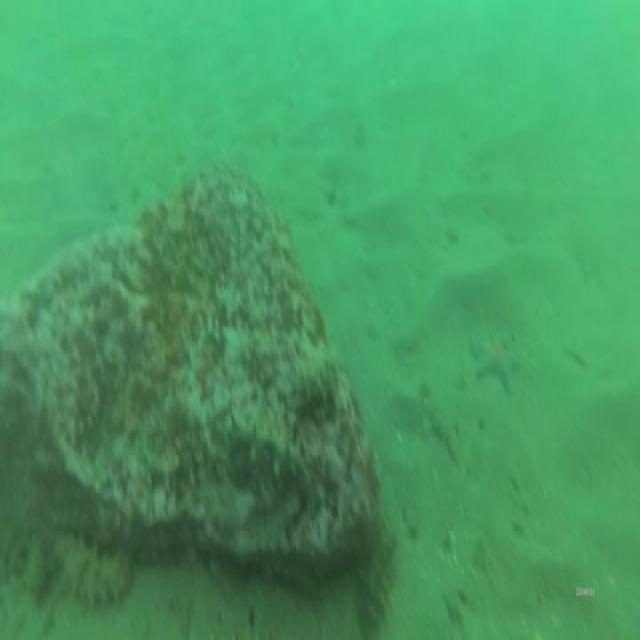holothurian: (21, 525, 136, 613), (225, 406, 312, 499), (361, 518, 399, 637), (286, 345, 345, 417)
starfish: (469, 326, 524, 396)
